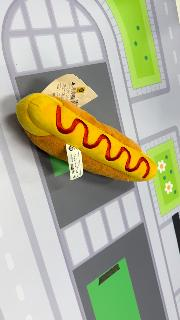hotdog: (16, 92, 158, 184)
